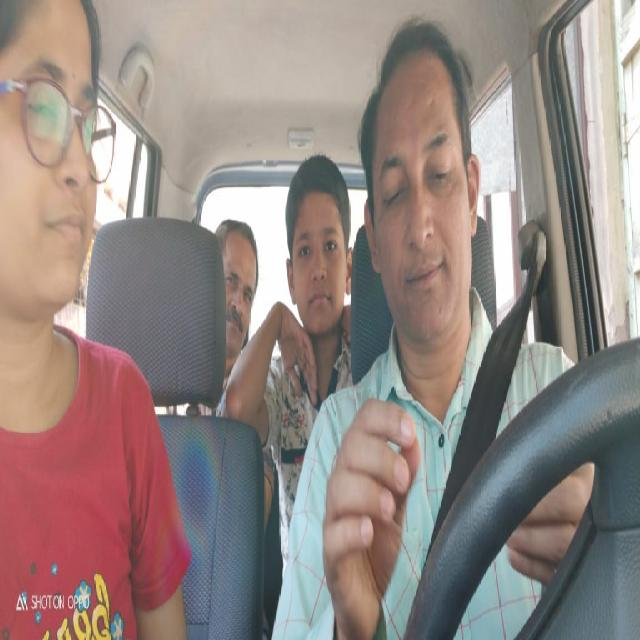drowsy: (355, 42, 480, 343)
person: (1, 0, 106, 315), (283, 150, 350, 330), (217, 215, 256, 354)
